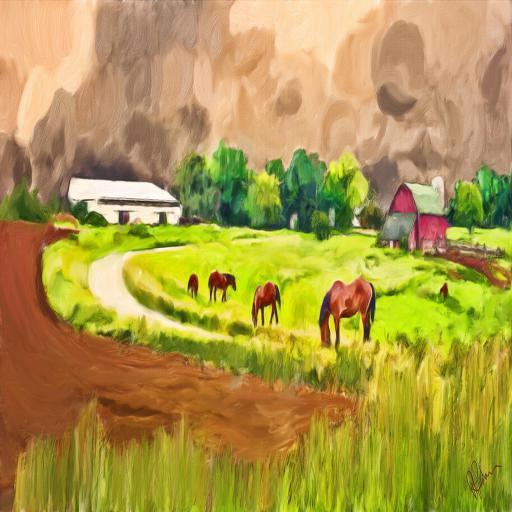horse: (318, 274, 376, 350), (251, 281, 282, 331), (208, 271, 237, 301), (186, 271, 200, 298)
